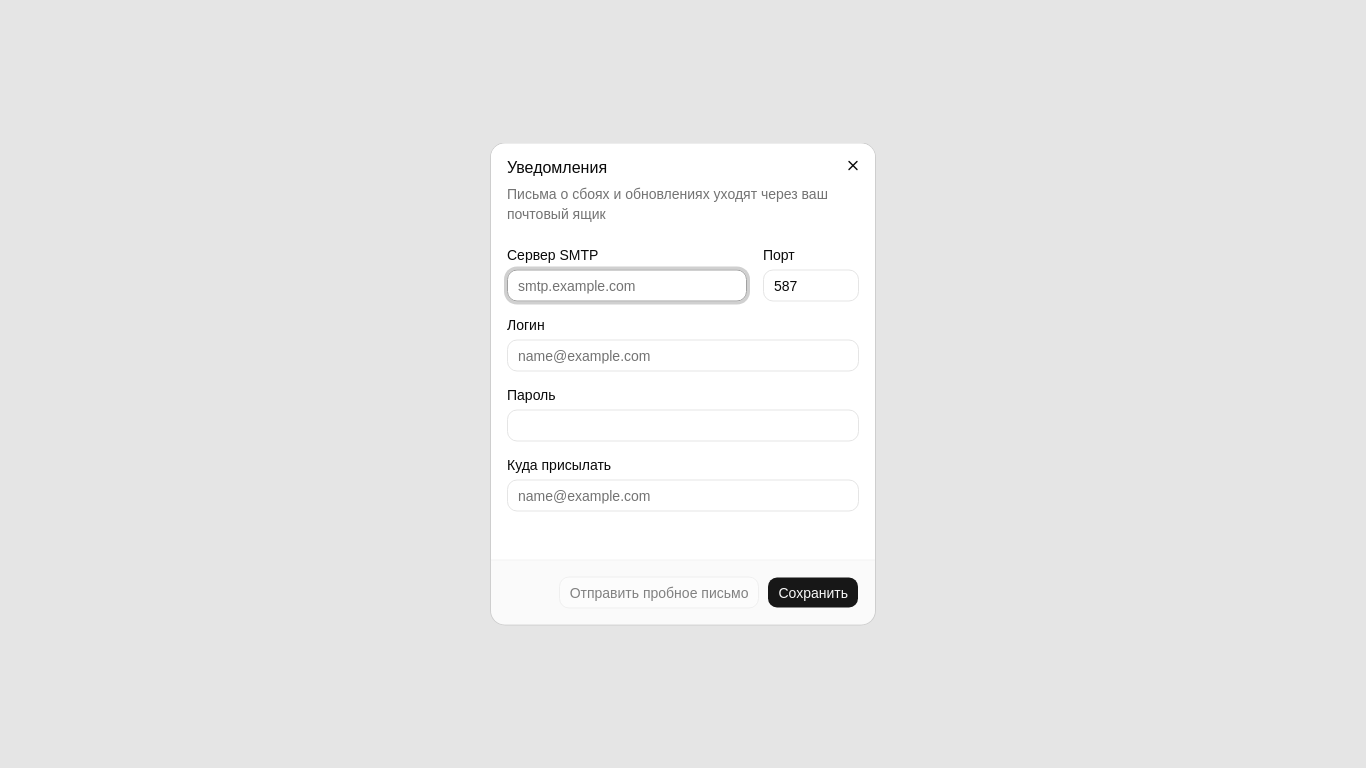
уведомления › сохраняет поля и не показывает пароль после сохранения
Type "smtp.example.org" into the field labelled "Сервер SMTP" at (627, 286), box [507,270,747,302]
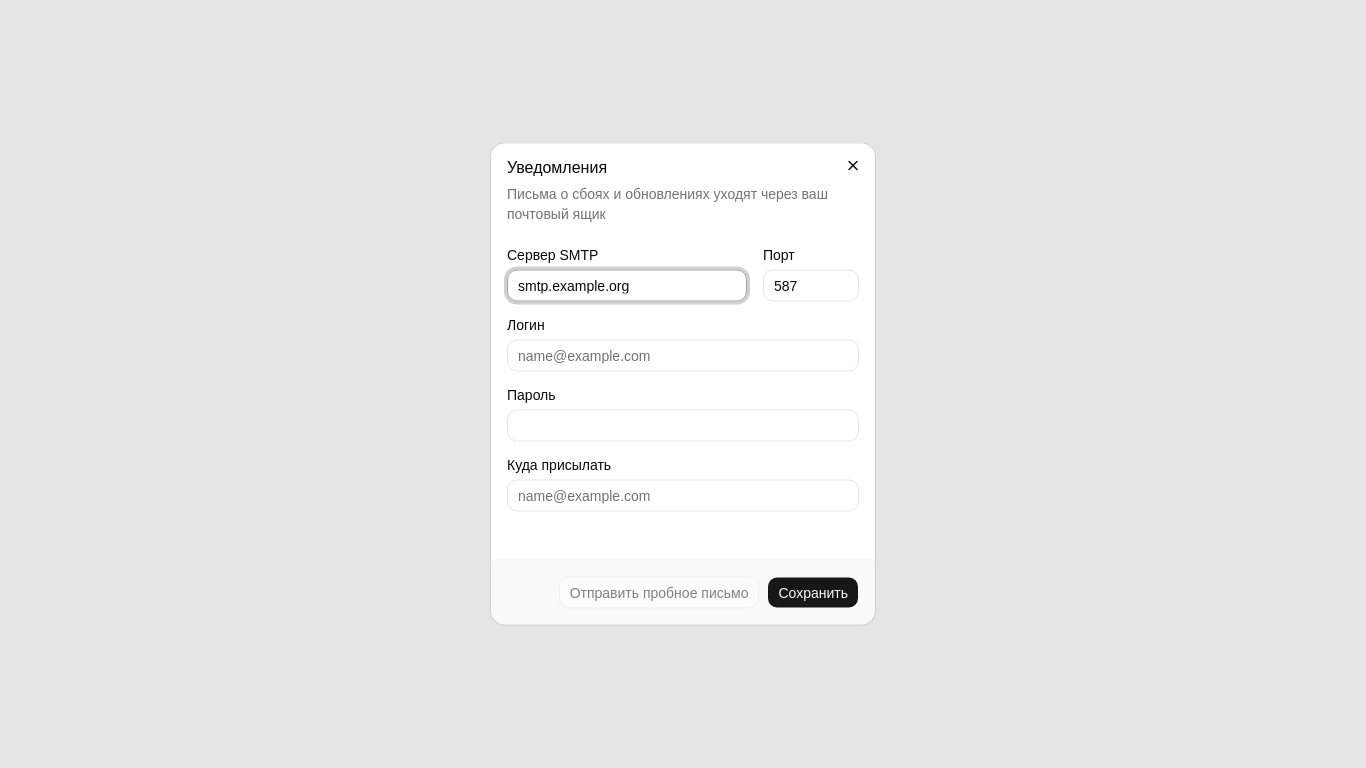
Type "vpn@example.org" into the field labelled "Логин" at (683, 356), box [507,340,859,372]
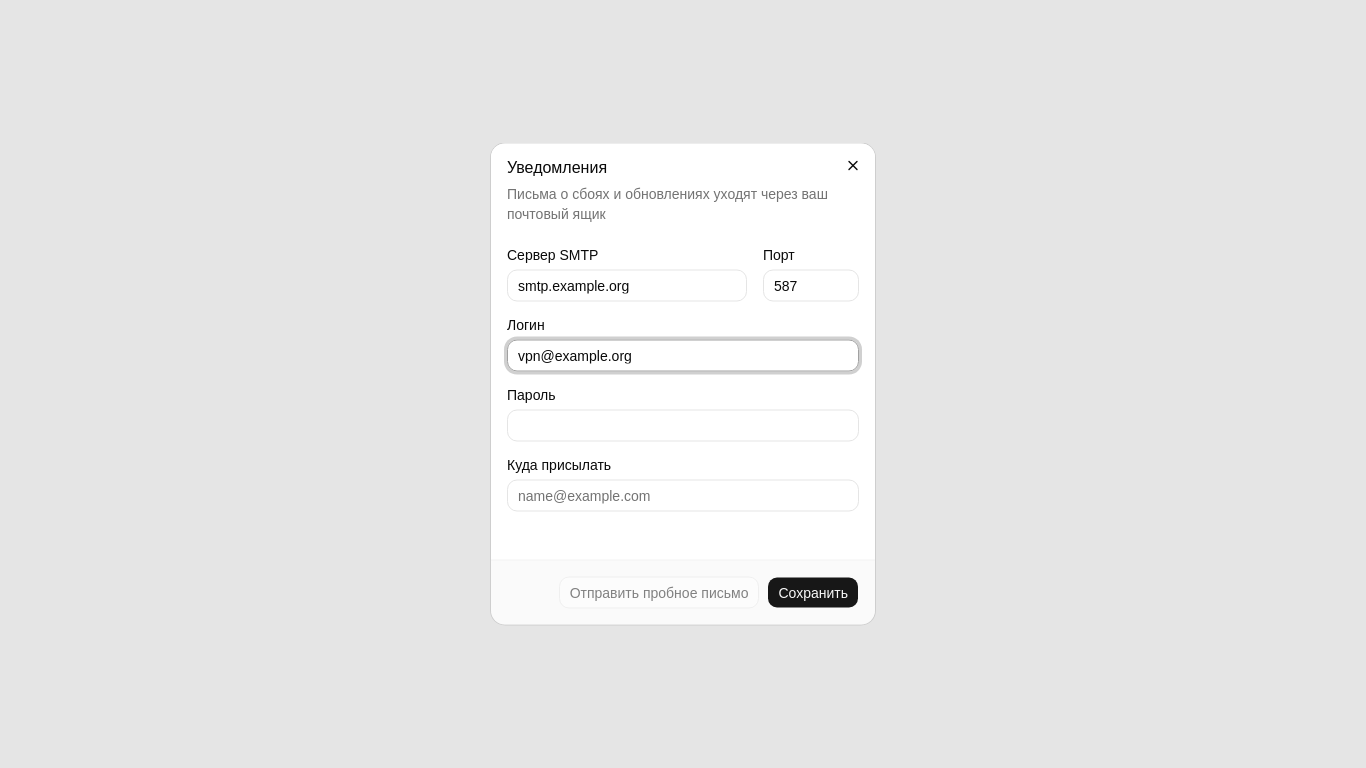
Type "secret-pass" into the password field labelled "Пароль" at (683, 426), box [507,410,859,442]
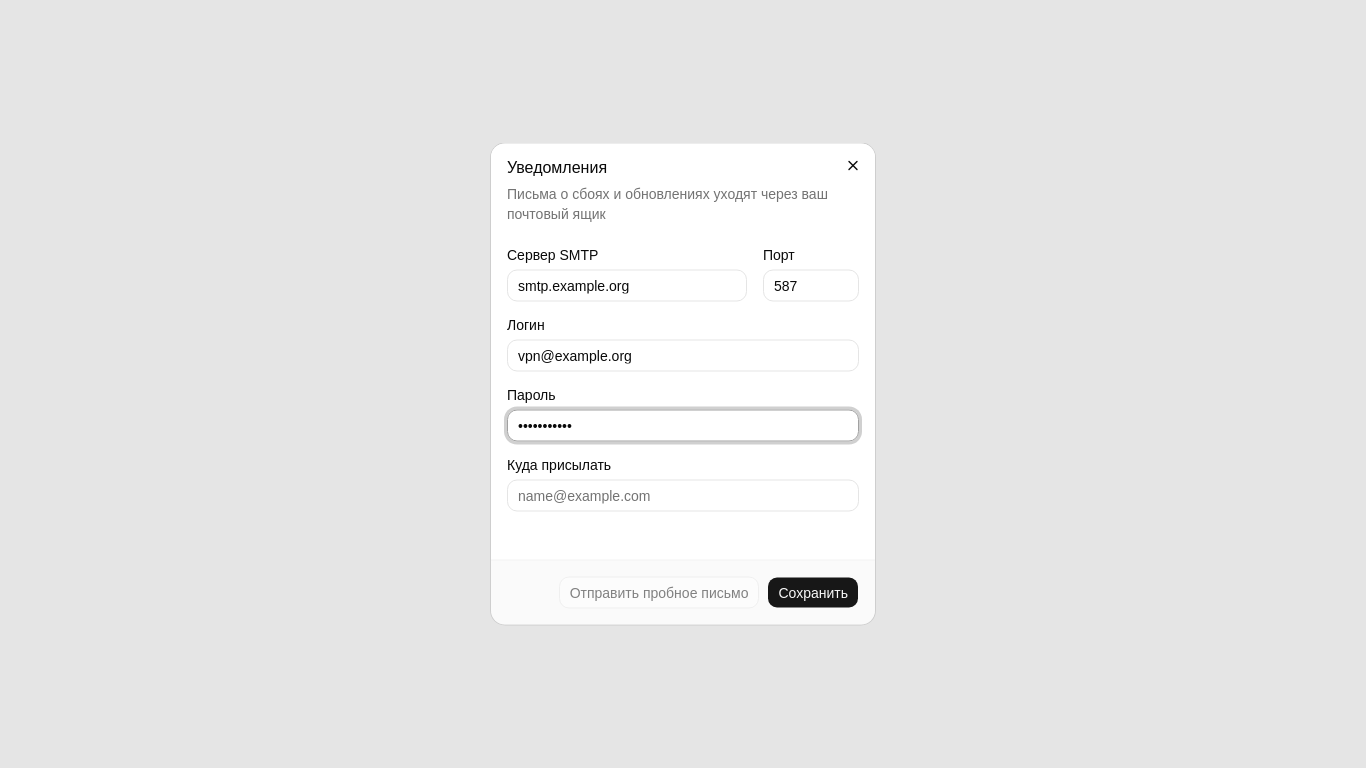
Type "owner@example.org" into the field labelled "Куда присылать" at (683, 496), box [507,480,859,512]
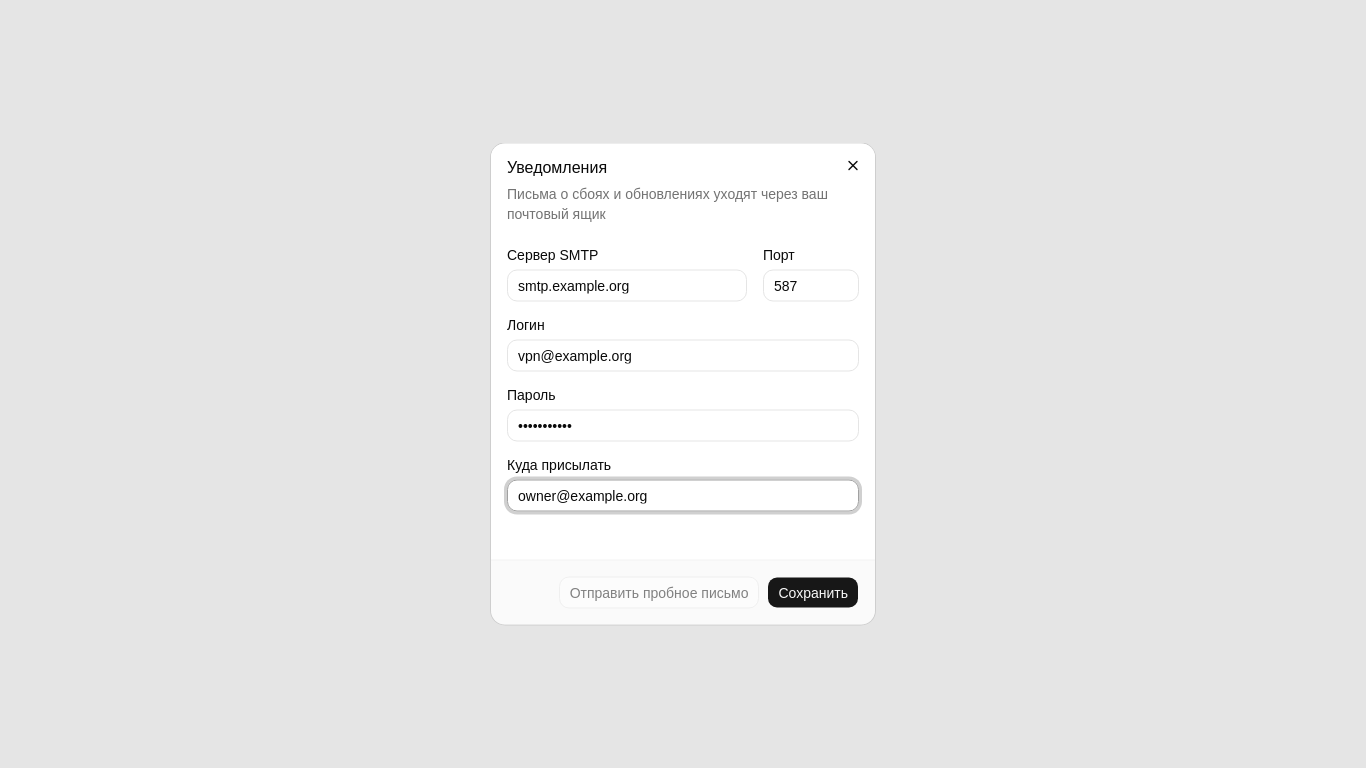
Click the button "Сохранить" at (813, 592), box [767,576,859,608]
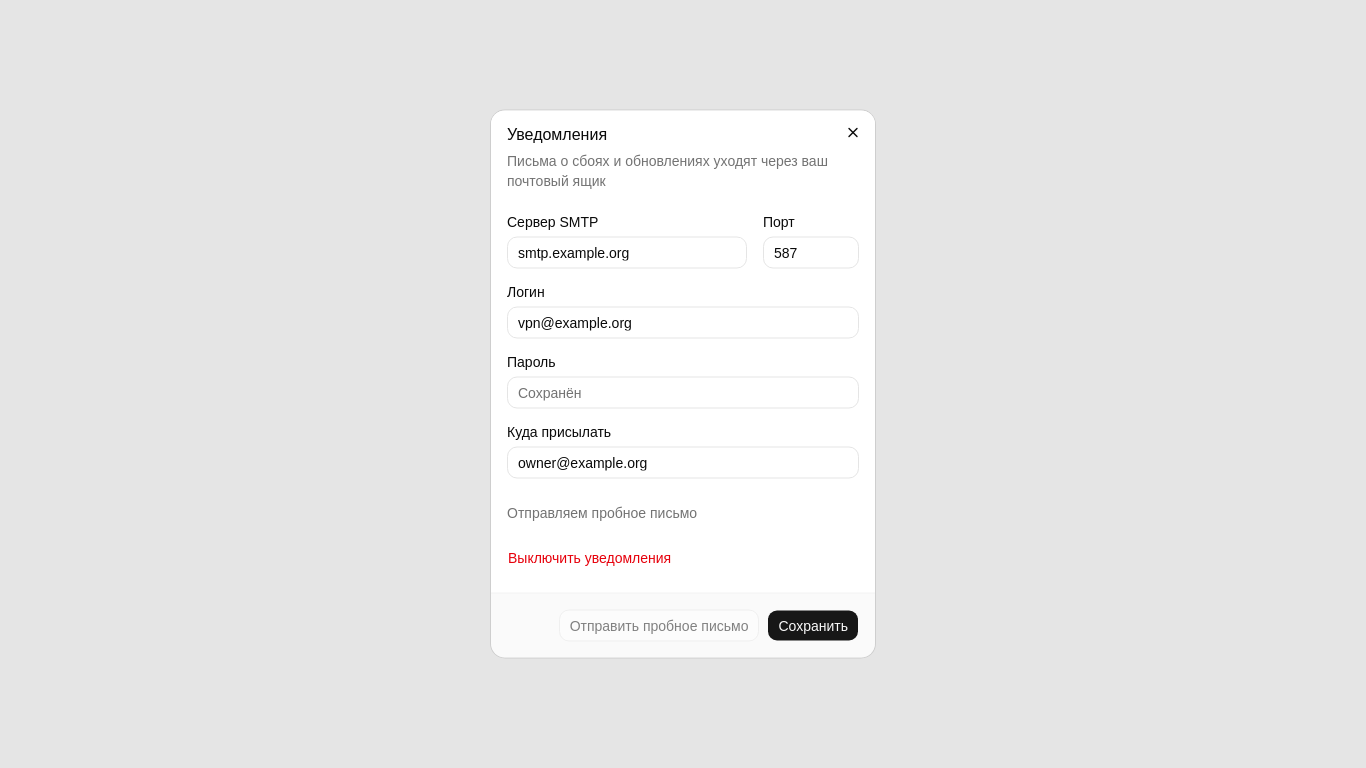
Check: the password field labelled "Пароль" is empty, box [507,376,859,408]
Check: the text "Отправляем пробное письмо" is shown, box [507,504,697,520]
